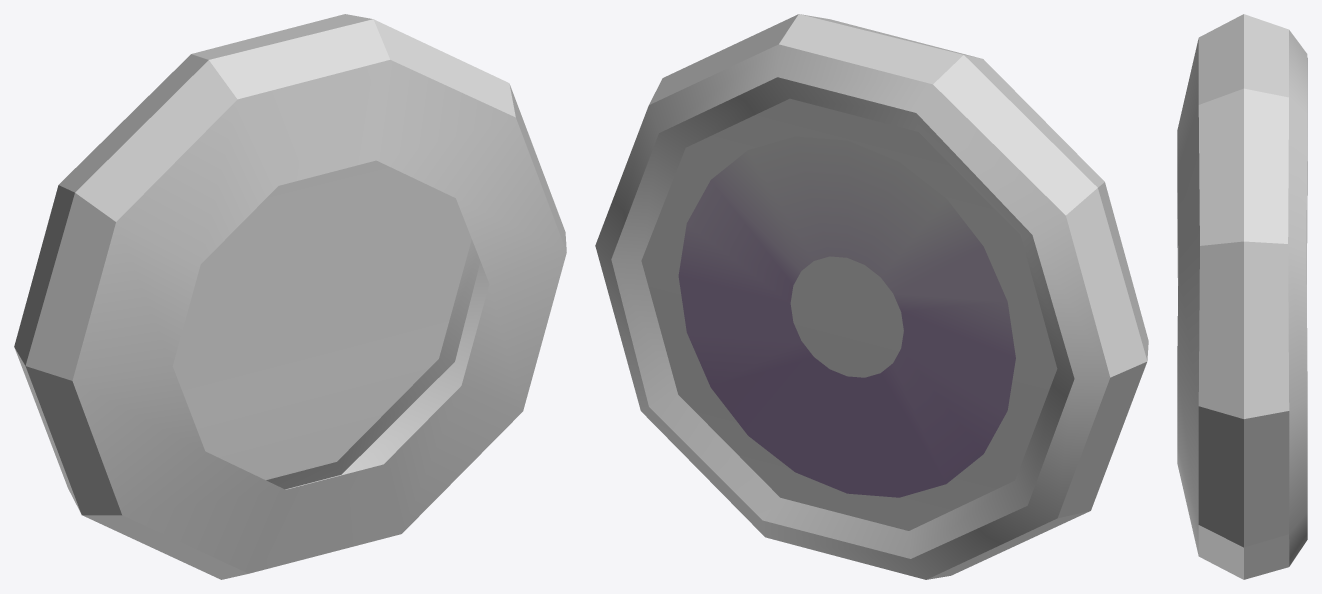
The model's file is platformLaunchTube.fbx.
3 views of the same model, side by side, from view 1: azimuth 30°, elevation 25°; view 2: azimuth 150°, elevation 25°; view 3: azimuth 270°, elevation 25° (orthographic). The views are drawn at different scales.
Visible parts, largest first — view 1: platformLaunchTube; view 2: platformLaunchTube; view 3: platformLaunchTube.
Part boxes in pixels (left/top/right/bottom): platformLaunchTube: left=14, top=14, right=566, bottom=579; platformLaunchTube: left=595, top=14, right=1148, bottom=579; platformLaunchTube: left=1177, top=14, right=1307, bottom=579.
Size of the model in its own units: 148 by 137 by 33.11.
